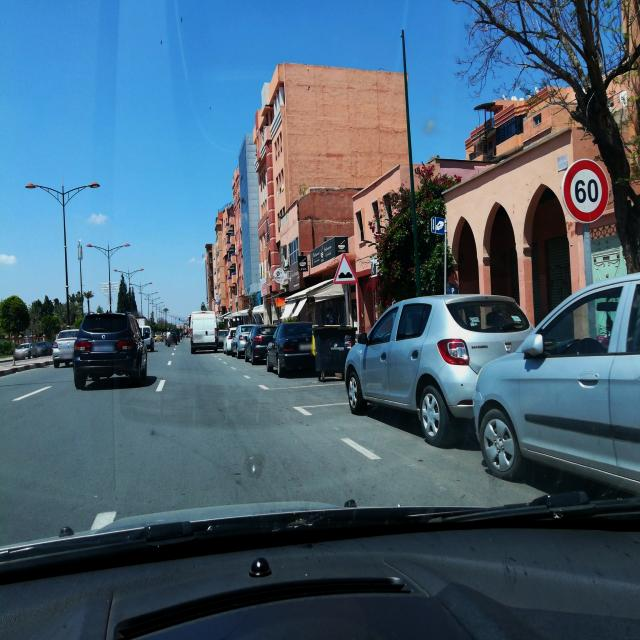car: (471, 270, 640, 504), (343, 293, 534, 447), (72, 310, 148, 389), (266, 322, 317, 376), (244, 323, 278, 365), (52, 328, 80, 368), (232, 323, 257, 358), (140, 326, 154, 352), (223, 328, 237, 354), (13, 343, 35, 359), (32, 341, 52, 357), (217, 328, 228, 347), (154, 332, 162, 343)
